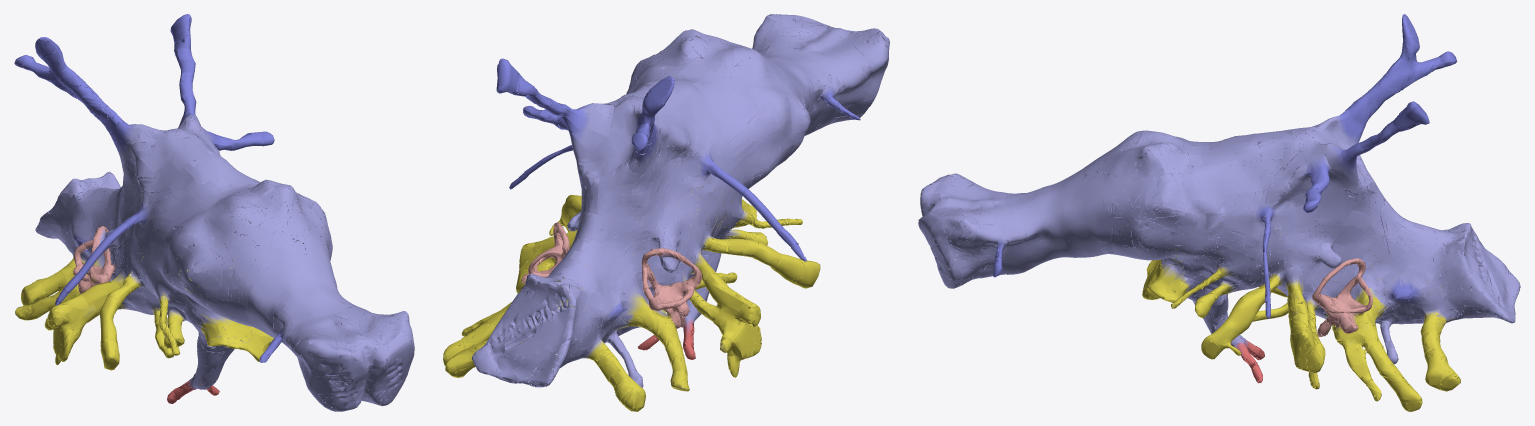
File: trex_brain_endocast.glb
3 renders of one model, left to right at view 1: azimuth 30°, elevation 25°; view 2: azimuth 150°, elevation 25°; view 3: azimuth 270°, elevation 25°, orthographic. The views are drawn at different scales.
Parts seen in each view (by area): view 1: Object_11, Object_12, Object_13, Object_10, Object_9, Object_6, Object_3, Object_7, Object_5, Object_8, Object_4; view 2: Object_11, Object_6, Object_9, Object_5, Object_7, Object_13, Object_10, Object_12, Object_8, Object_4, Object_3; view 3: Object_11, Object_6, Object_7, Object_5, Object_12, Object_10, Object_4, Object_9, Object_3, Object_8, Object_13.
Boxes of the visible parts, x1,y1,x2,y2 form: Object_11: (35,141,330,324); Object_12: (194,192,398,387); Object_13: (21,46,414,411); Object_10: (40,185,408,411); Object_9: (21,171,414,409); Object_6: (35,14,332,314); Object_3: (48,135,273,403); Object_7: (14,37,274,320); Object_5: (35,129,332,370); Object_8: (15,60,304,358); Object_4: (49,231,235,364); Object_11: (455,29,810,387); Object_6: (472,58,805,384); Object_9: (446,14,864,411); Object_5: (445,79,820,385); Object_7: (487,77,791,391); Object_13: (512,14,889,411); Object_10: (443,15,888,386); Object_12: (687,30,870,155); Object_8: (516,97,802,390); Object_4: (443,191,761,377); Object_3: (509,104,860,377); Object_11: (1095,130,1520,390); Object_6: (1114,14,1515,323); Object_7: (1148,14,1515,325); Object_5: (1134,126,1519,391); Object_12: (953,130,1179,279); Object_10: (918,133,1518,409); Object_4: (1201,195,1422,411); Object_9: (918,63,1520,410); Object_3: (1142,151,1376,389); Object_8: (1142,57,1444,387); Object_13: (918,54,1462,323).
Size of the model in its own units: 12.76 by 14.68 by 25.01.
